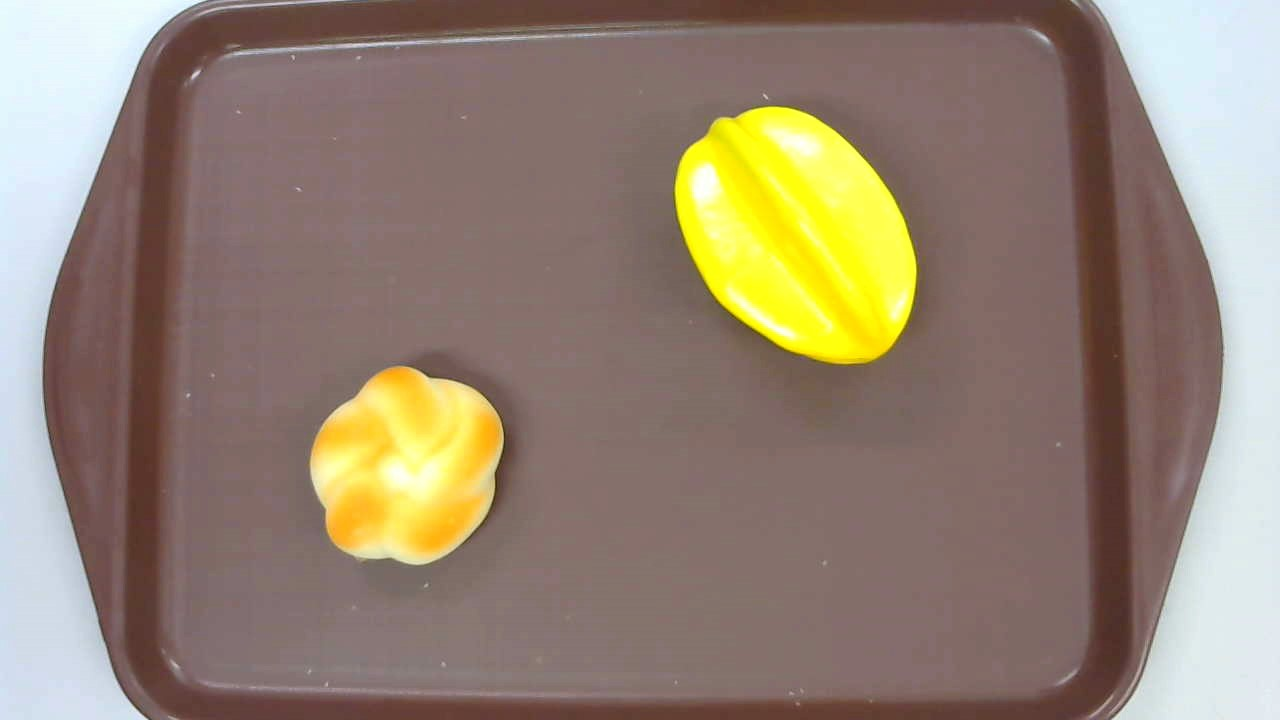star fruit: (672, 105, 916, 367)
twist bread: (310, 366, 503, 563)
